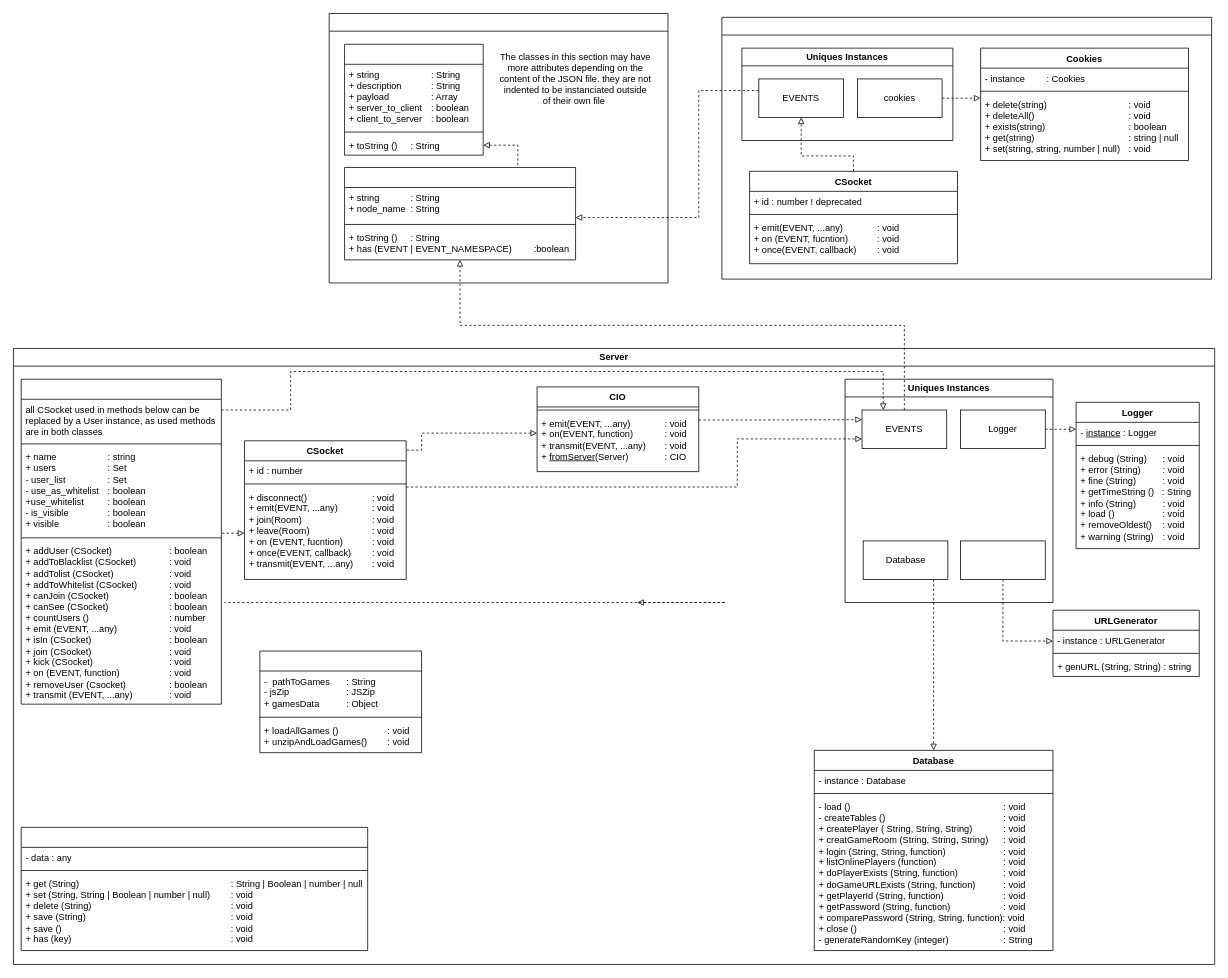
The diagram is 1228 pixels wide and 978 high, and some of its shapes have lost their labels. Each missing label, with the box of its shape:
Client: (721, 17, 1212, 279)
Dynamics common classes: (328, 13, 668, 283)
EVENT: (344, 44, 483, 155)
EVENTS_NAMESPACE: (344, 167, 576, 260)
GameLoader: (259, 650, 422, 753)
gameRooms: (960, 540, 1045, 579)
Room: (20, 378, 221, 704)
Settings: (20, 827, 368, 951)
